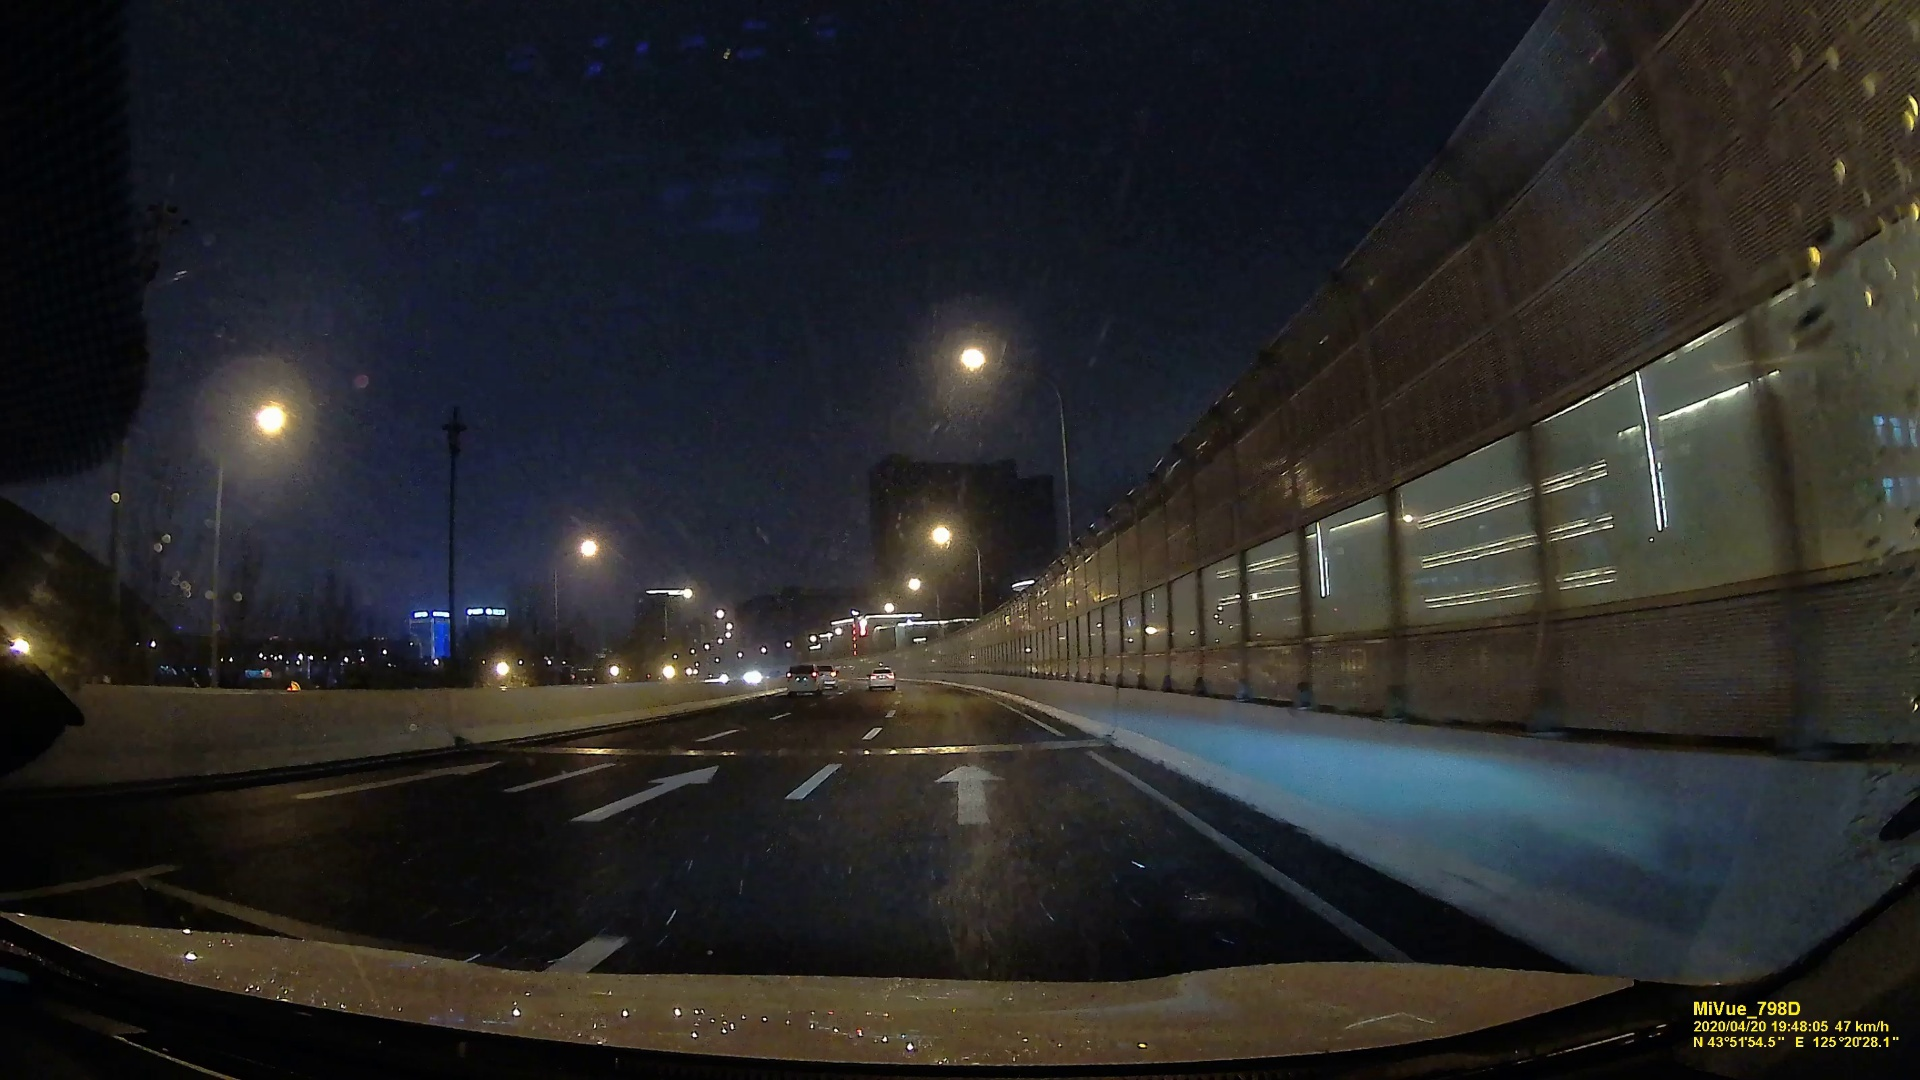vehicle: (785, 665, 823, 698), (866, 666, 895, 690)
